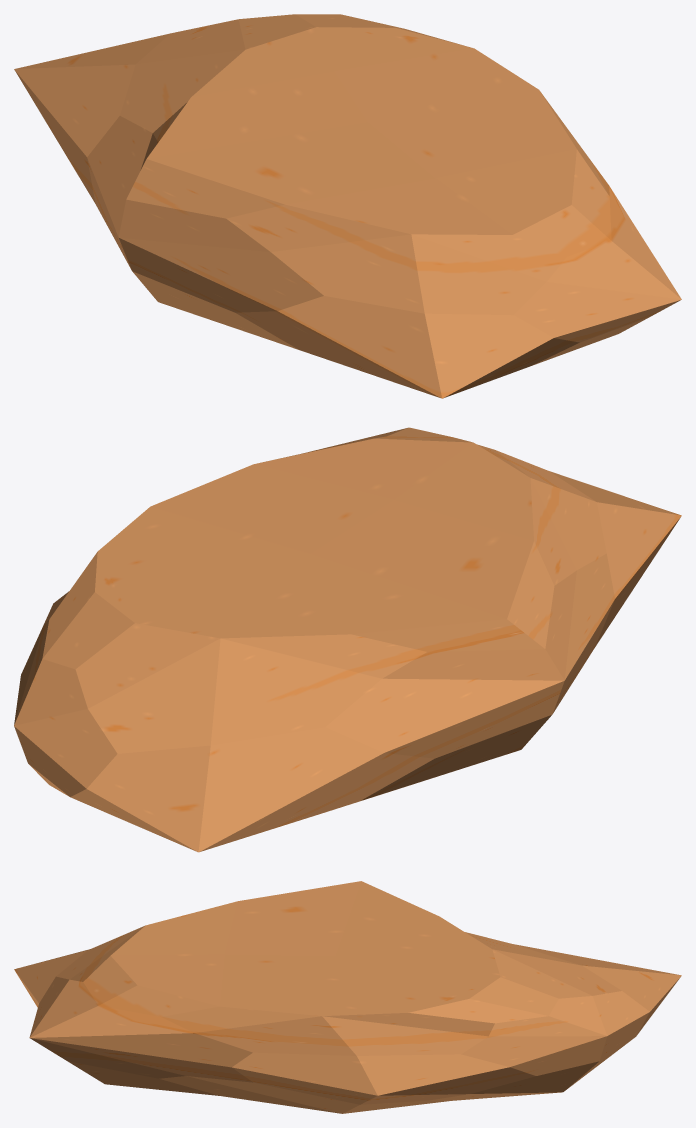
Rendered from rock2.fbx.
The picture shows the model from 3 angles, top to bottom: view 1: azimuth 30°, elevation 25°; view 2: azimuth 150°, elevation 25°; view 3: azimuth 270°, elevation 25°; orthographic projection. The views are drawn at different scales.
Parts seen in each view (by area): view 1: Plane; view 2: Plane; view 3: Plane.
Part boxes in pixels (x1=…): Plane: x1=14, y1=14, x2=681, y2=398; Plane: x1=14, y1=427, x2=681, y2=852; Plane: x1=14, y1=881, x2=681, y2=1113.
Size of the model in its own units: 163 by 45.05 by 270.
1 material, 1 textured.
